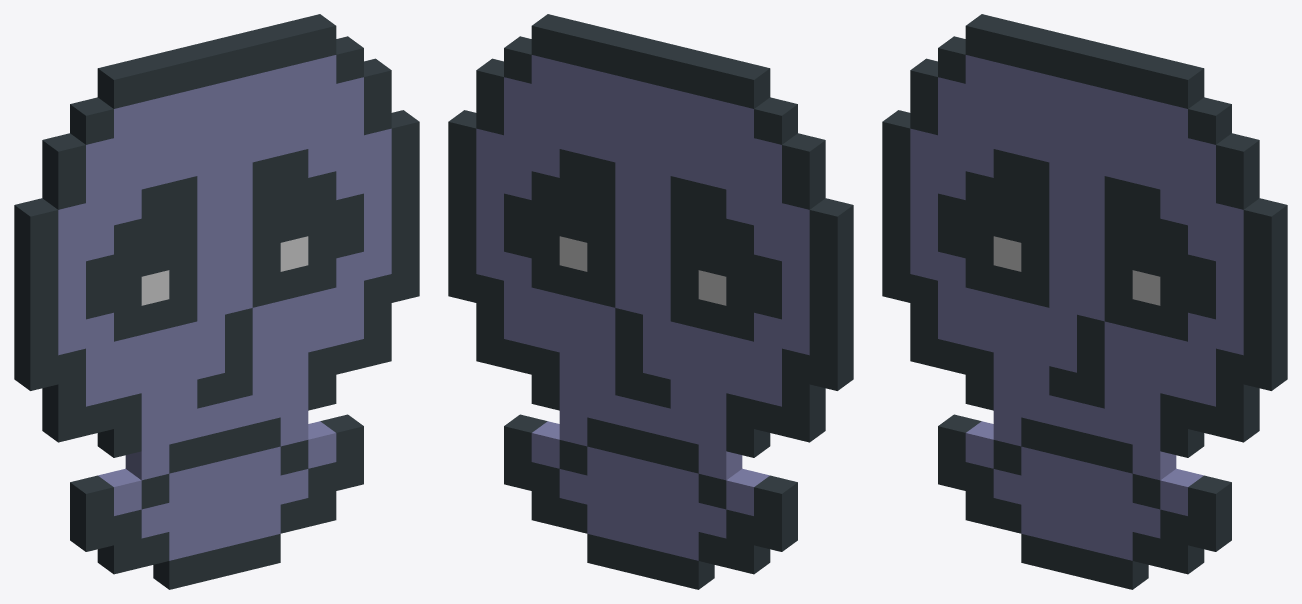
3 views of the same model, side by side, from view 1: azimuth 30°, elevation 25°; view 2: azimuth 150°, elevation 25°; view 3: azimuth 330°, elevation 25° (orthographic).
Size of the model in its own units: 0.7 by 0.9 by 0.05.
